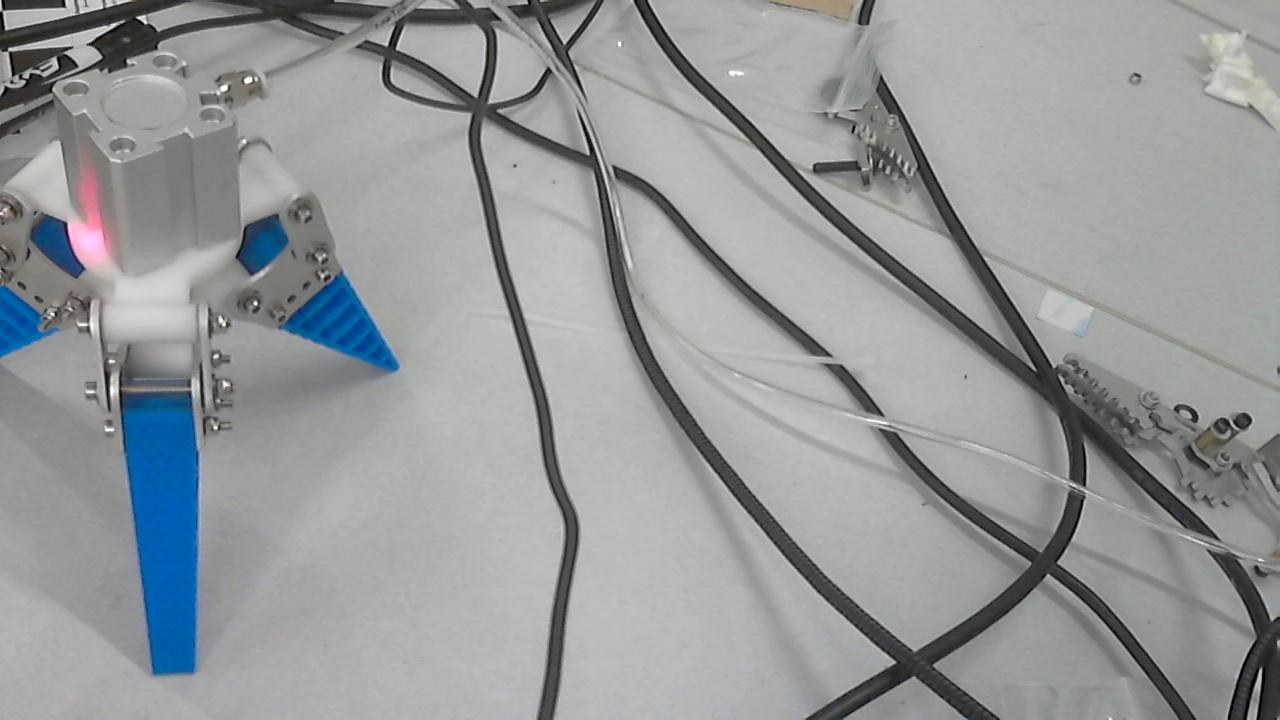Object robotic gripper finger assembly - Material metal - Pdfname Yy6dySnH33wN: (41, 153, 152, 277)
